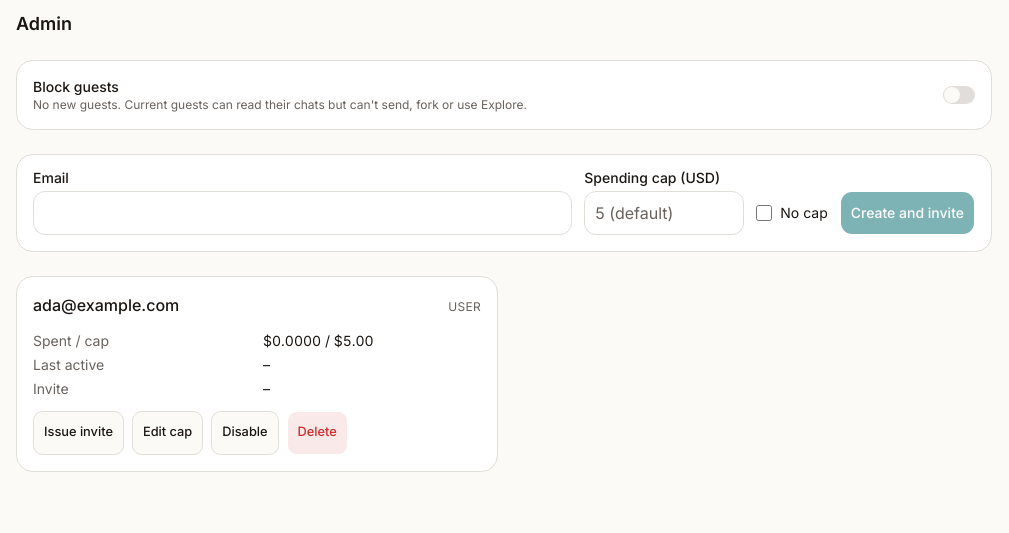
Test: AdminConsole on a dead network › a Block guests switch whose save fails turns back off and says so
This screenshot has width=1009, height=533.
Click the switch named "Block guests" at x=959, y=95, box [943,86,975,104]
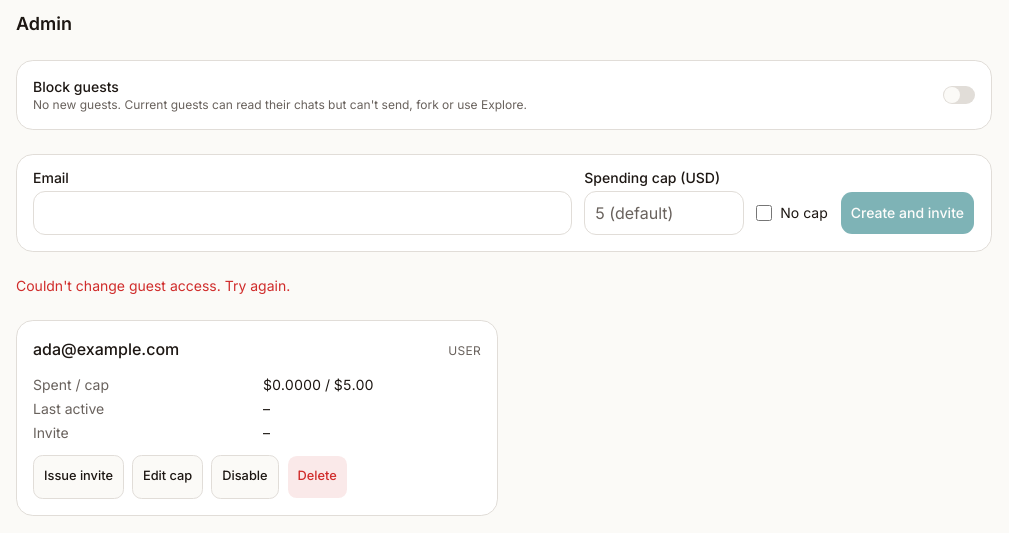
Check: the message reads "Couldn't change guest access. Try again.", box [16,277,290,294]
